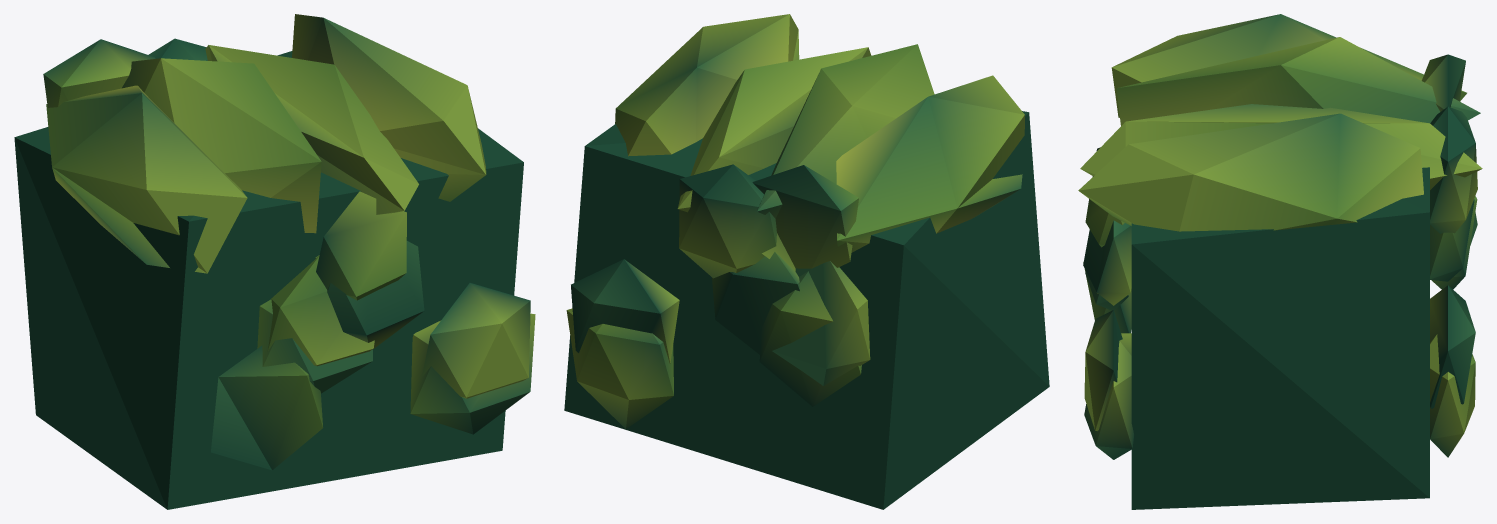
Rendered from grove_hedge-lod1.glb.
3 renders of one model, left to right at view 1: azimuth 30°, elevation 25°; view 2: azimuth 150°, elevation 25°; view 3: azimuth 270°, elevation 25°, orthographic. The views are drawn at different scales.
Visible parts, largest first — view 1: grove_hedge; view 2: grove_hedge; view 3: grove_hedge.
Boxes of the visible parts, x1,y1,x2,y2 form: grove_hedge: (14,14,535,509); grove_hedge: (564,14,1049,509); grove_hedge: (1078,14,1482,509).
Bounding box in the file's own units: 2.05 × 1.99 × 2.01.
